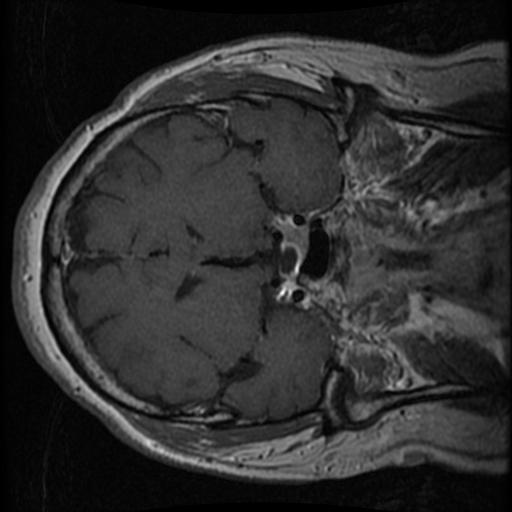pituitary tumour: (272, 212, 310, 265)
